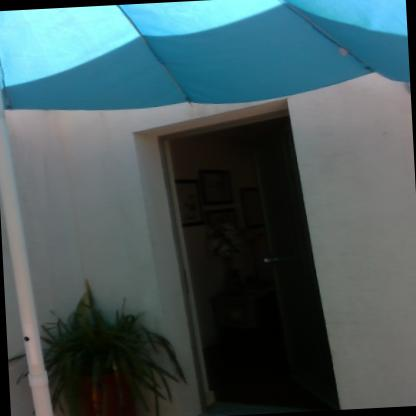open: (131, 95, 335, 416)
